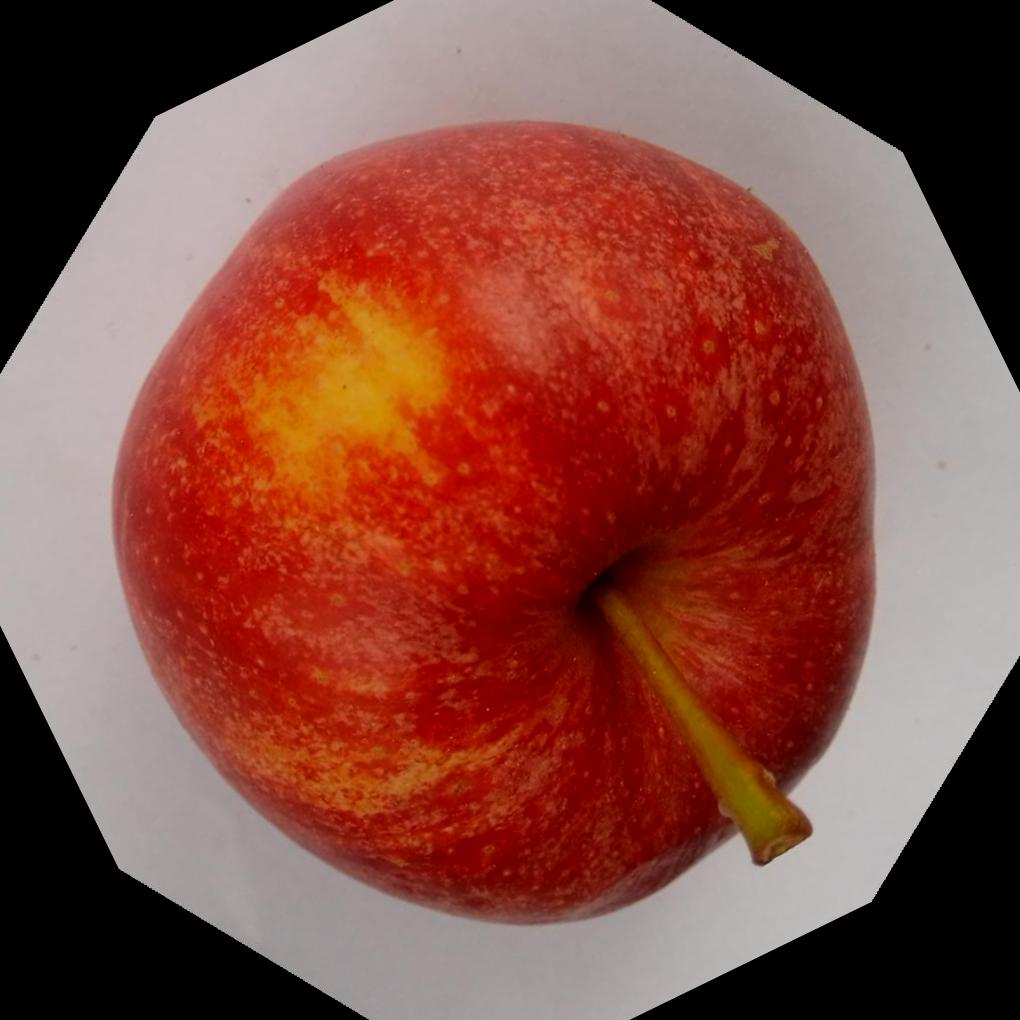FreshGuava: (104, 117, 876, 927)
